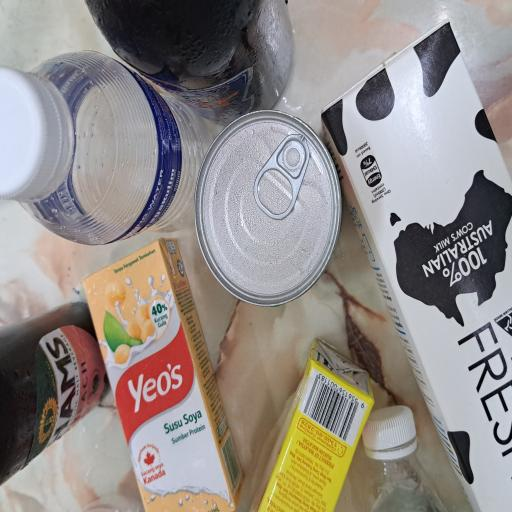can: (154, 265, 302, 456)
drink carton: (0, 112, 206, 318), (0, 430, 367, 512), (0, 326, 130, 506)
glass bottle: (294, 101, 382, 399), (18, 0, 161, 143)
plastic bottle: (201, 32, 347, 281)
plastic bottle cap: (228, 0, 335, 94), (39, 480, 78, 512)
pop tab: (220, 333, 284, 417)
